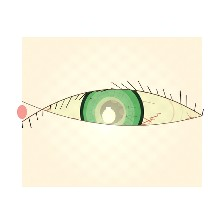corneal_ulcer: (83, 92, 138, 136)
